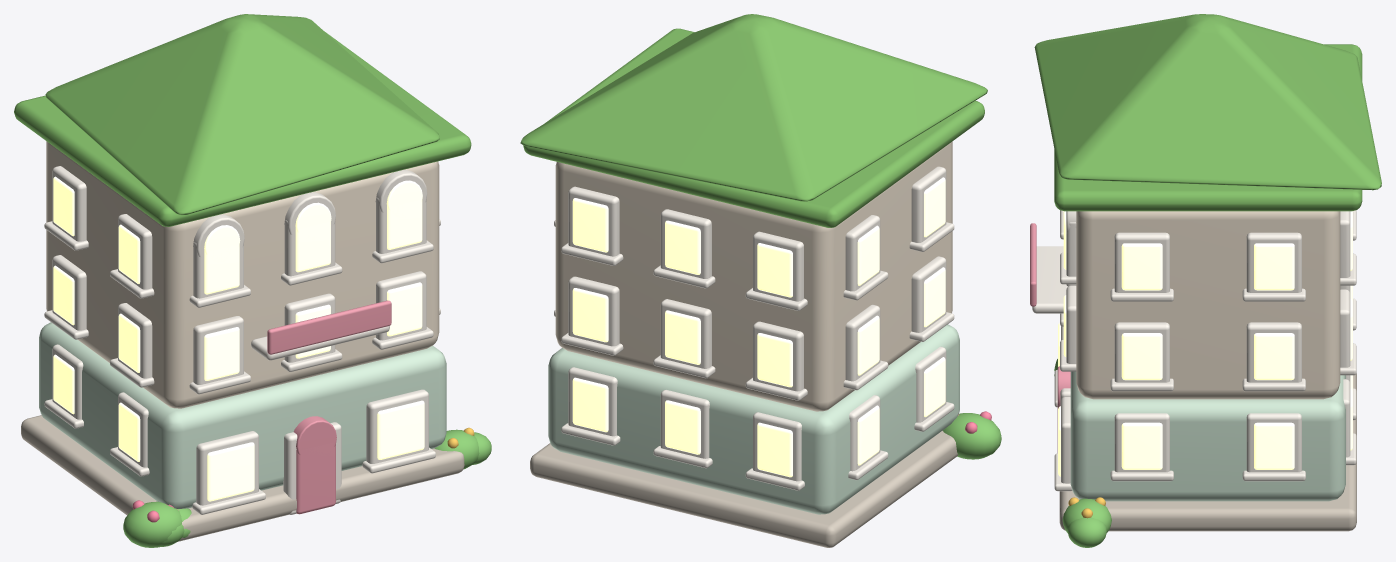
The picture shows the model from 3 angles, left to right: view 1: azimuth 30°, elevation 25°; view 2: azimuth 150°, elevation 25°; view 3: azimuth 270°, elevation 25°; orthographic projection.
Visible parts, largest first — view 1: Cube; view 2: Cube; view 3: Cube.
Boxes of the visible parts, bbox=[...] form: Cube: bbox=[14, 14, 491, 547]; Cube: bbox=[520, 14, 1001, 547]; Cube: bbox=[1030, 14, 1381, 547].
Bounding box in the file's own units: 0.7756 × 0.895 × 0.6396.
